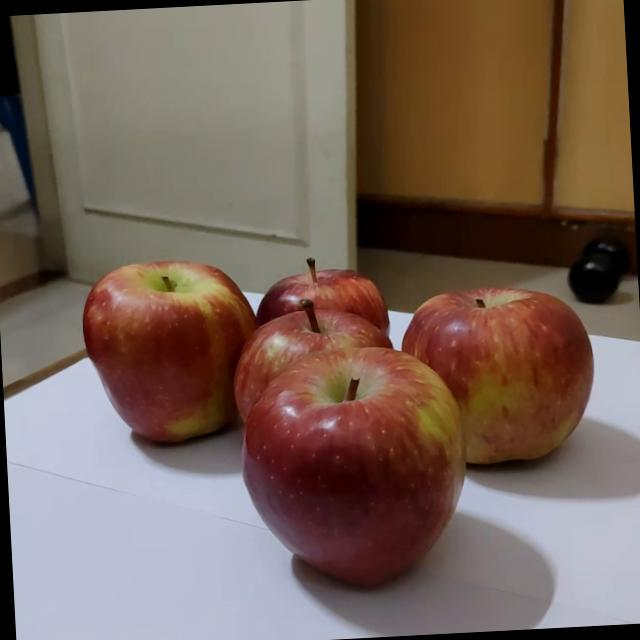apple: (218, 336, 471, 599), (390, 277, 596, 478), (68, 247, 257, 454), (220, 297, 402, 419), (245, 248, 392, 362)
